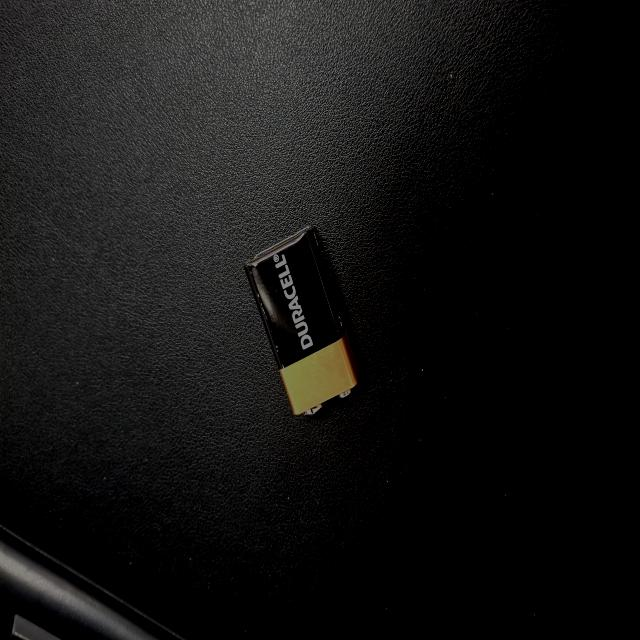9V: (171, 376, 311, 526)
